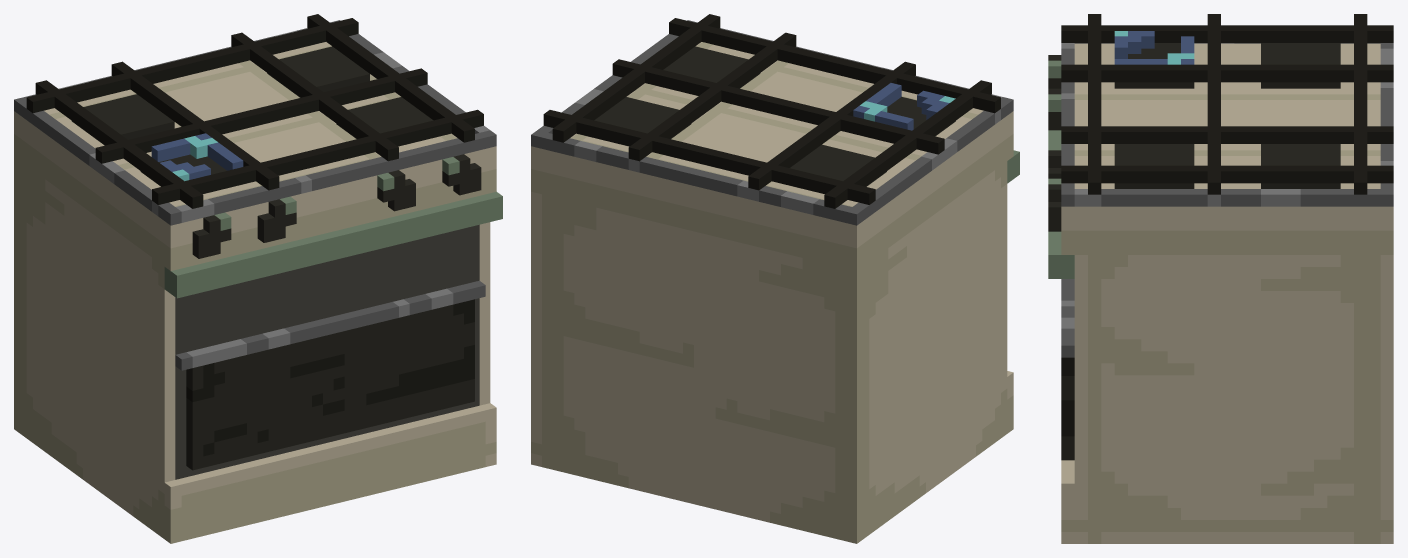
The model's file is Stove.obj.
3 renders of one model, left to right at view 1: azimuth 30°, elevation 25°; view 2: azimuth 150°, elevation 25°; view 3: azimuth 270°, elevation 25°, orthographic. The views are drawn at different scales.
Size of the model in its own units: 3 by 3 by 2.6.
1 material, 1 textured.
